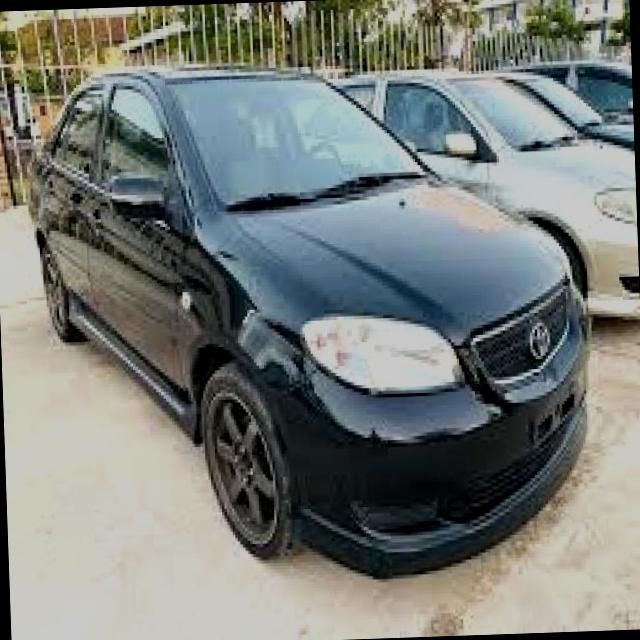ToyotaVios: (26, 48, 599, 591)
